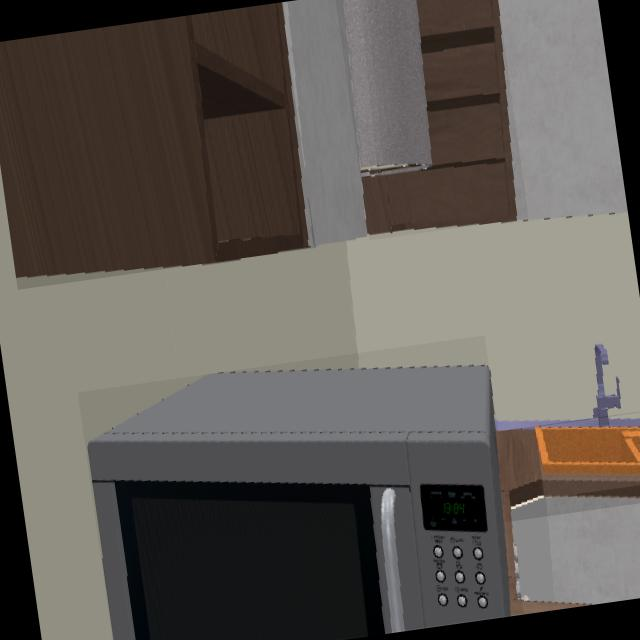countertop: (496, 431, 640, 508)
microwave: (89, 368, 513, 640)
shelf: (0, 2, 309, 278), (364, 0, 517, 232)
sink: (535, 428, 640, 478)
